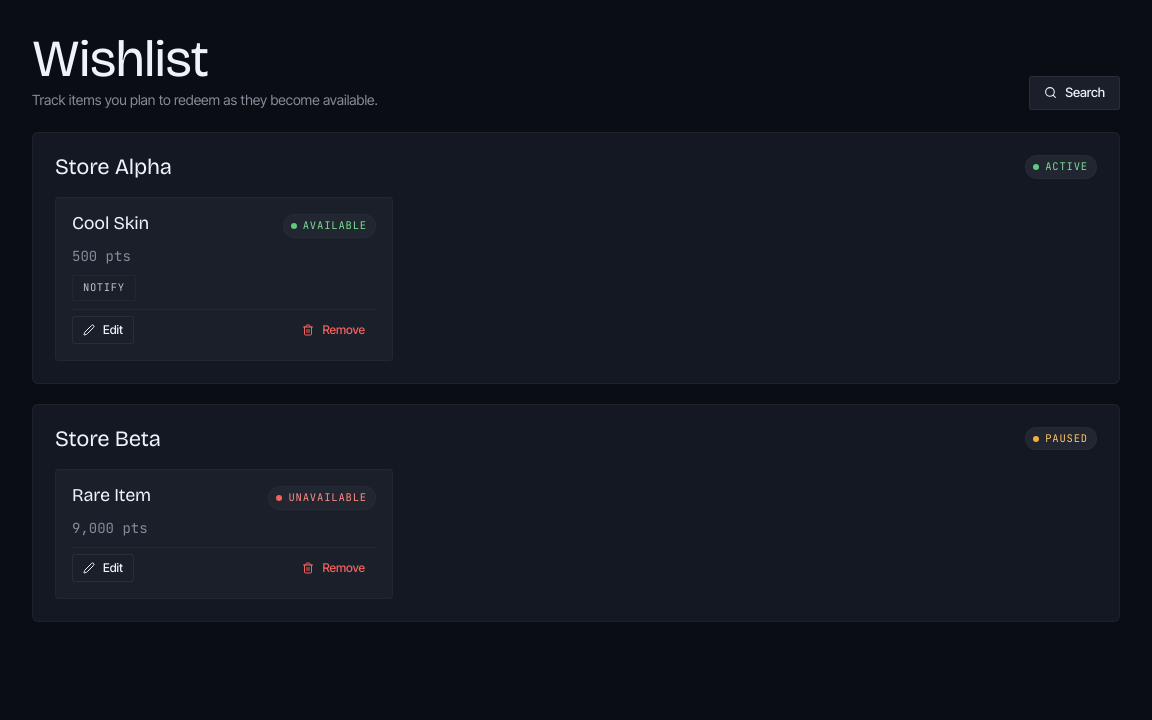
Test: WishlistPage › search toggle reveals the input
The image size is (1152, 720).
Check: the field with placeholder "Search wishlisted items…" is not shown
What coordinates should you click on to do the following:
click the button "Search"
I would click on:
 (1075, 93)
Its box is [1029,76,1120,110].
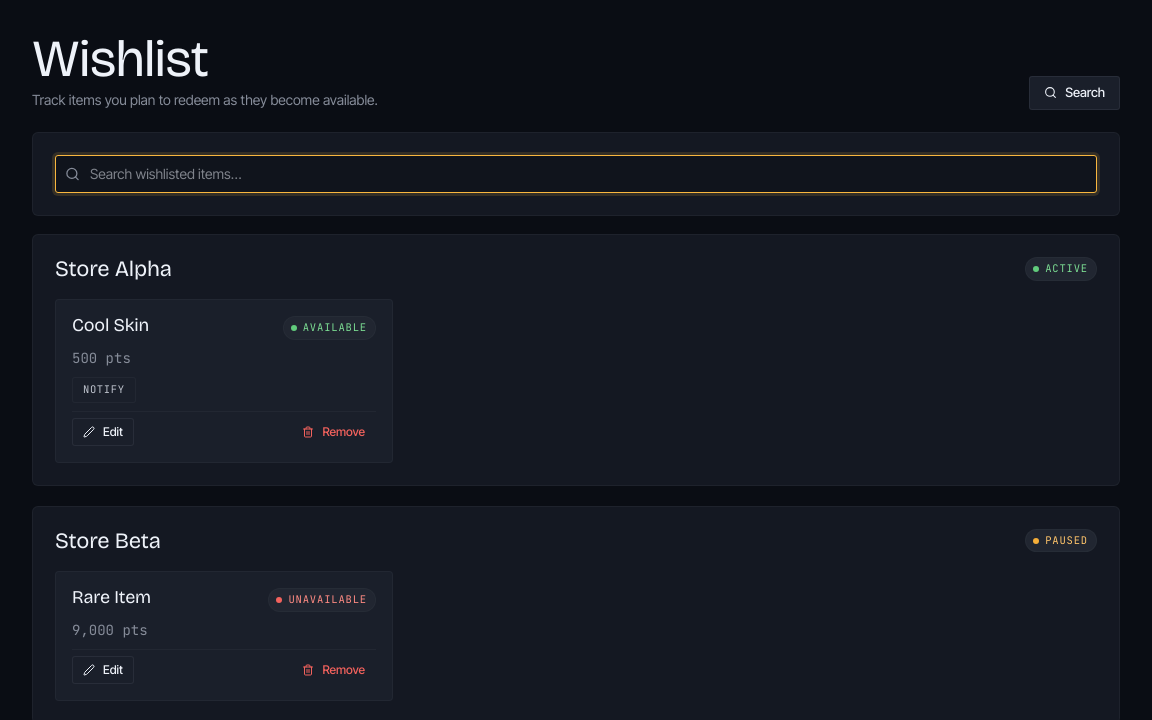
Check: the field with placeholder "Search wishlisted items…" is shown, box [55,155,1097,193]
